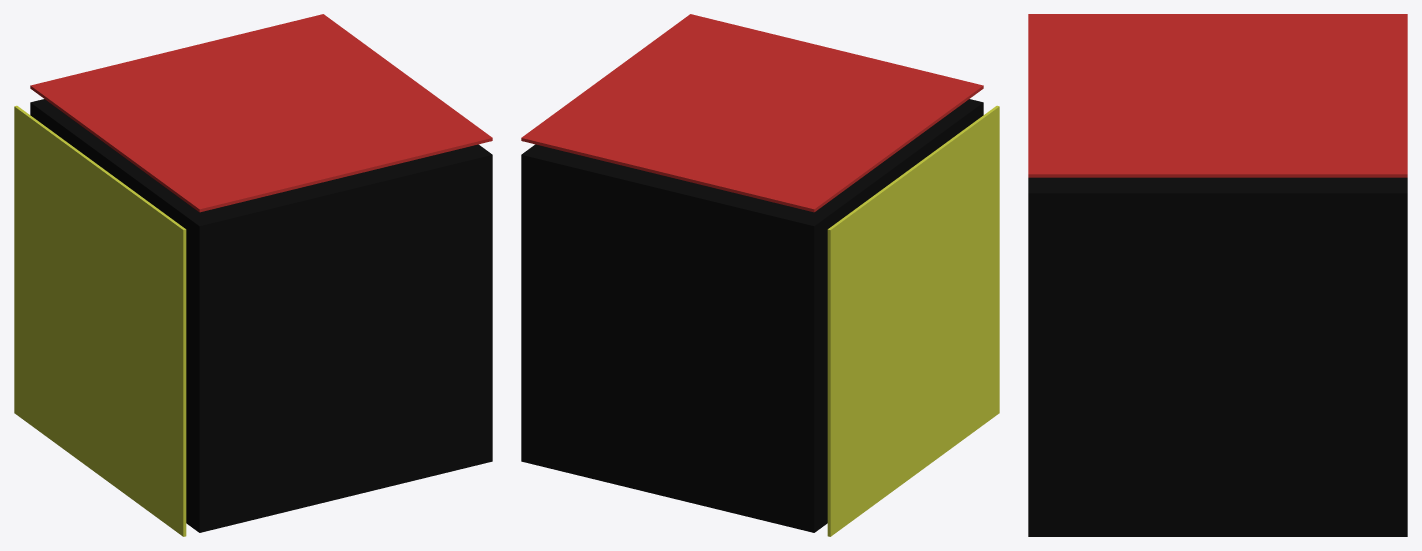
3 renders of one model, left to right at view 1: azimuth 30°, elevation 25°; view 2: azimuth 150°, elevation 25°; view 3: azimuth 270°, elevation 25°, orthographic. The views are drawn at different scales.
Visible parts, largest first — view 1: Cube, yellow-1, red-3; view 2: Cube, yellow-1, red-3; view 3: Cube, red-3.
Boxes of the visible parts, x1,y1,x2,y2 form: Cube: (30, 99, 492, 532); yellow-1: (14, 105, 186, 536); red-3: (30, 14, 492, 212); Cube: (521, 99, 983, 532); yellow-1: (827, 105, 999, 536); red-3: (521, 14, 983, 212); Cube: (1028, 177, 1407, 536); red-3: (1028, 14, 1407, 177).
Bounding box in the file's own units: 2.11 × 2.11 × 2.
